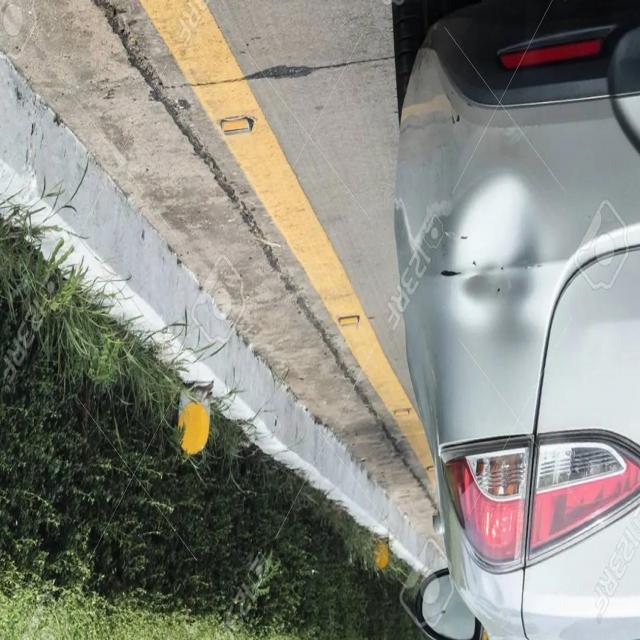dent: (430, 160, 548, 358)
